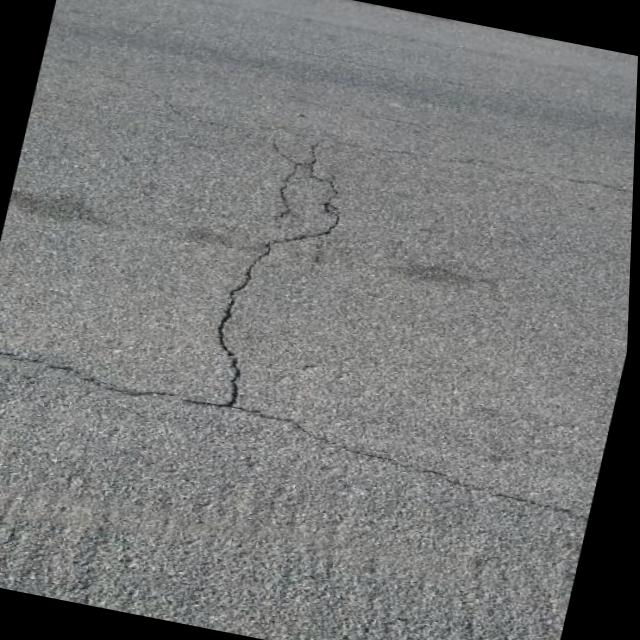Crack: (0, 335, 609, 526), (182, 137, 373, 426)
